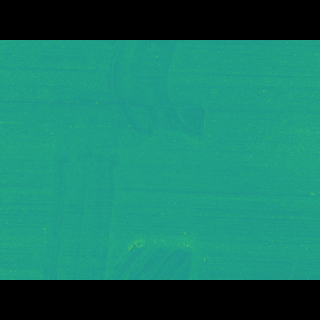Loch: (48, 136, 208, 251), (92, 70, 208, 145)
